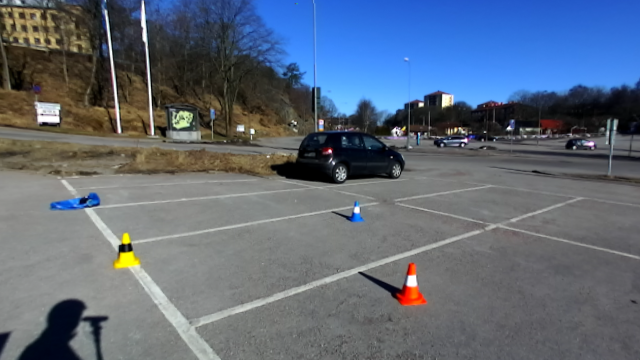blue: (348, 200, 364, 224)
orange: (395, 259, 429, 308)
yellow: (111, 229, 141, 272)
